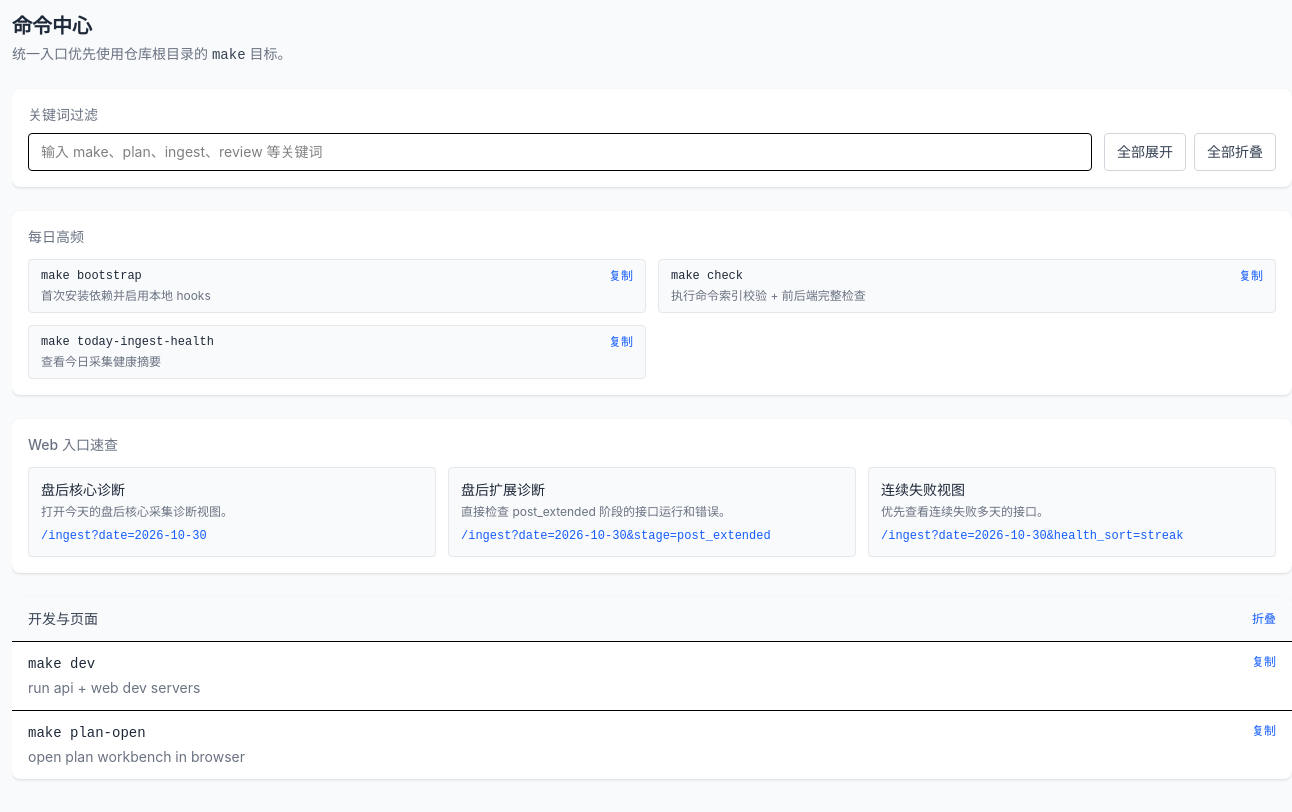
CommandsCenter › filters web shortcuts by keyword
This screenshot has width=1292, height=812.
Expected: the heading "Web 入口速查" is shown, [28, 436, 118, 453]
In the field labelled "关键词过滤": (560, 152) [28, 133, 1092, 171], type "streak"
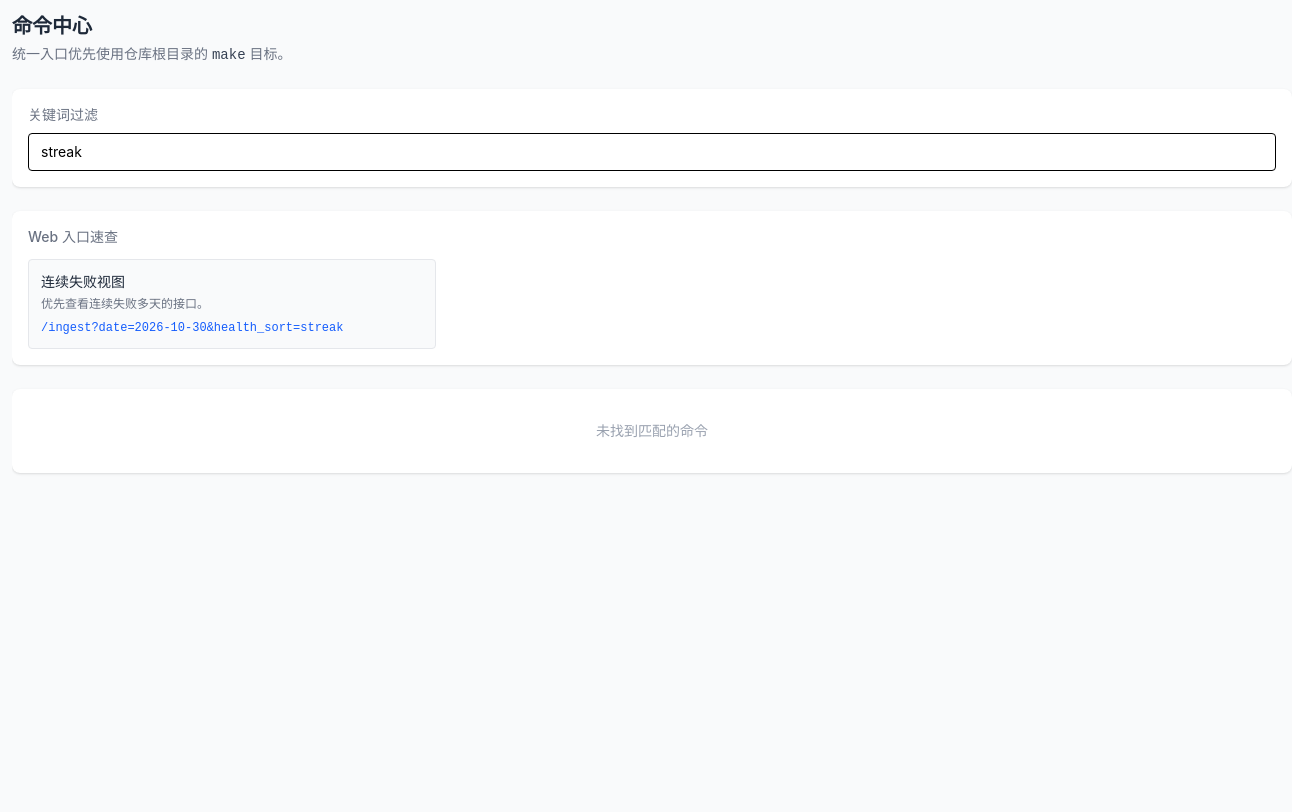
Expected: the link "连续失败视图" is shown, [28, 259, 436, 349]
Expected: the link "盘后核心诊断" is gone
